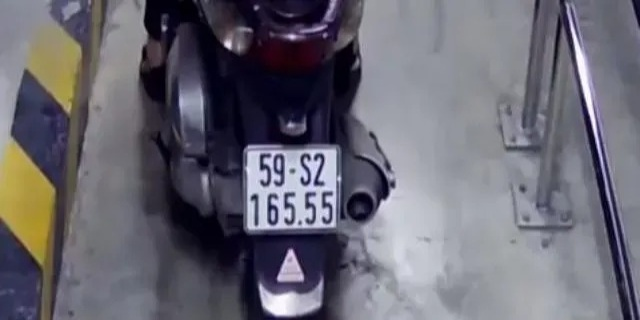bien_so: (245, 146, 339, 232)
